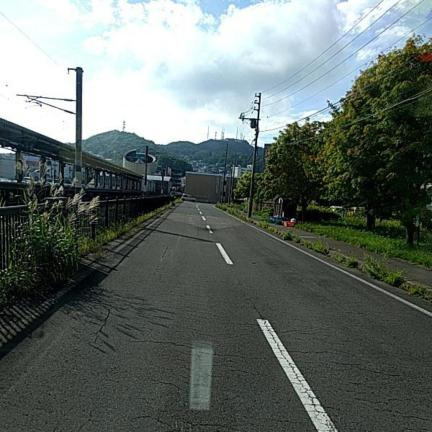Road: (0, 203, 431, 431)
